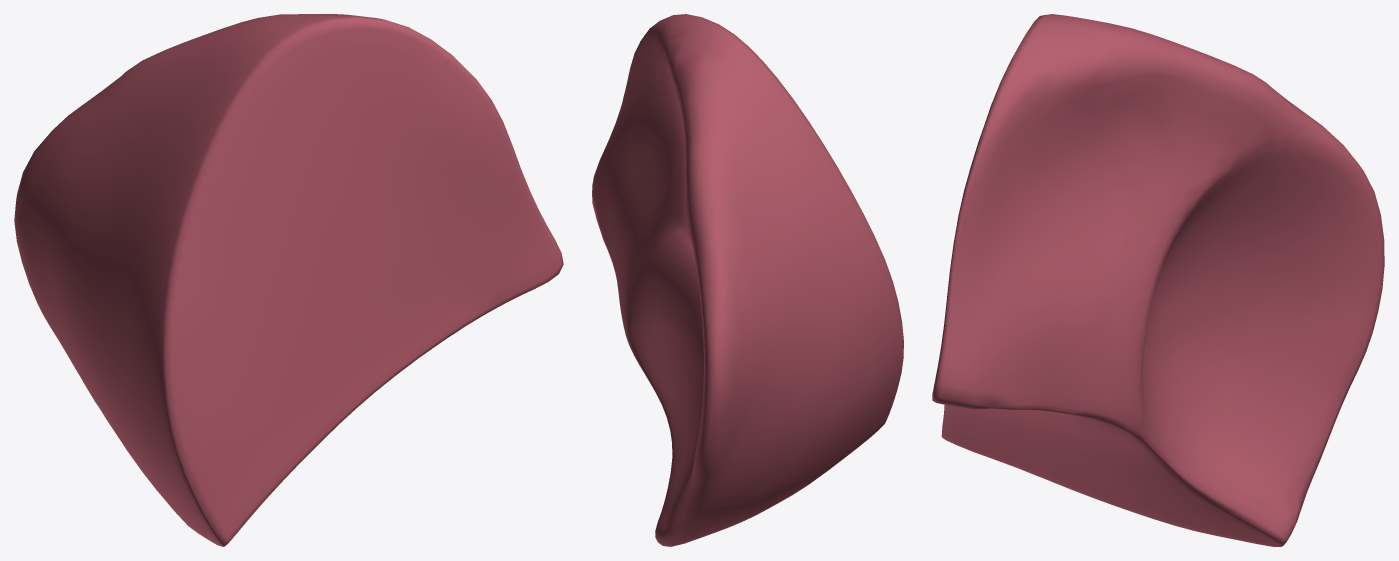
3 renders of one model, left to right at view 1: azimuth 30°, elevation 25°; view 2: azimuth 150°, elevation 25°; view 3: azimuth 270°, elevation 25°, orthographic. The views are drawn at different scales.
Visible parts, largest first — view 1: 肝右后叶下段（第6段）; view 2: 肝右后叶下段（第6段）; view 3: 肝右后叶下段（第6段）.
Boxes of the visible parts, <box> form: 肝右后叶下段（第6段）: <box>14,14,563,546</box>; 肝右后叶下段（第6段）: <box>592,14,903,546</box>; 肝右后叶下段（第6段）: <box>932,14,1384,546</box>.
Bounding box in the file's own units: 0.1331 × 0.1739 × 0.1285.
